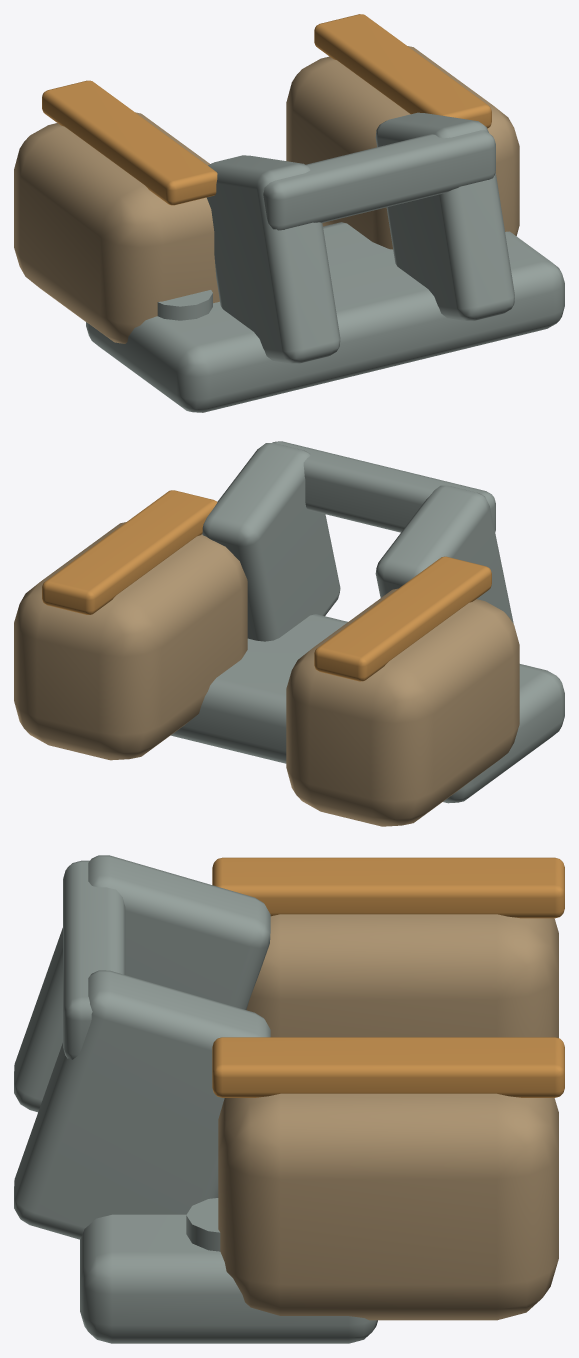
Rendered from ford-rescue-bracket.glb.
3 views of the same model, one above another, from view 1: azimuth 30°, elevation 25°; view 2: azimuth 150°, elevation 25°; view 3: azimuth 270°, elevation 25° (orthographic). The views are drawn at different scales.
Parts seen in each view (by area): view 1: Bent galvanised steel, Canvas sling pads, Ochre rescue webbing; view 2: Canvas sling pads, Bent galvanised steel, Ochre rescue webbing; view 3: Canvas sling pads, Bent galvanised steel, Ochre rescue webbing.
Boxes of the visible parts, x1,y1,x2,y2 form: Bent galvanised steel: (86, 112, 564, 412); Canvas sling pads: (14, 46, 519, 343); Ochre rescue webbing: (42, 14, 491, 205); Canvas sling pads: (14, 522, 519, 826); Bent galvanised steel: (171, 441, 564, 803); Ochre rescue webbing: (42, 490, 491, 681); Canvas sling pads: (218, 914, 558, 1320); Bent galvanised steel: (14, 855, 377, 1343); Ochre rescue webbing: (212, 857, 564, 1097).
Bounding box in the file's own units: 0.322 × 0.1672 × 0.275.
